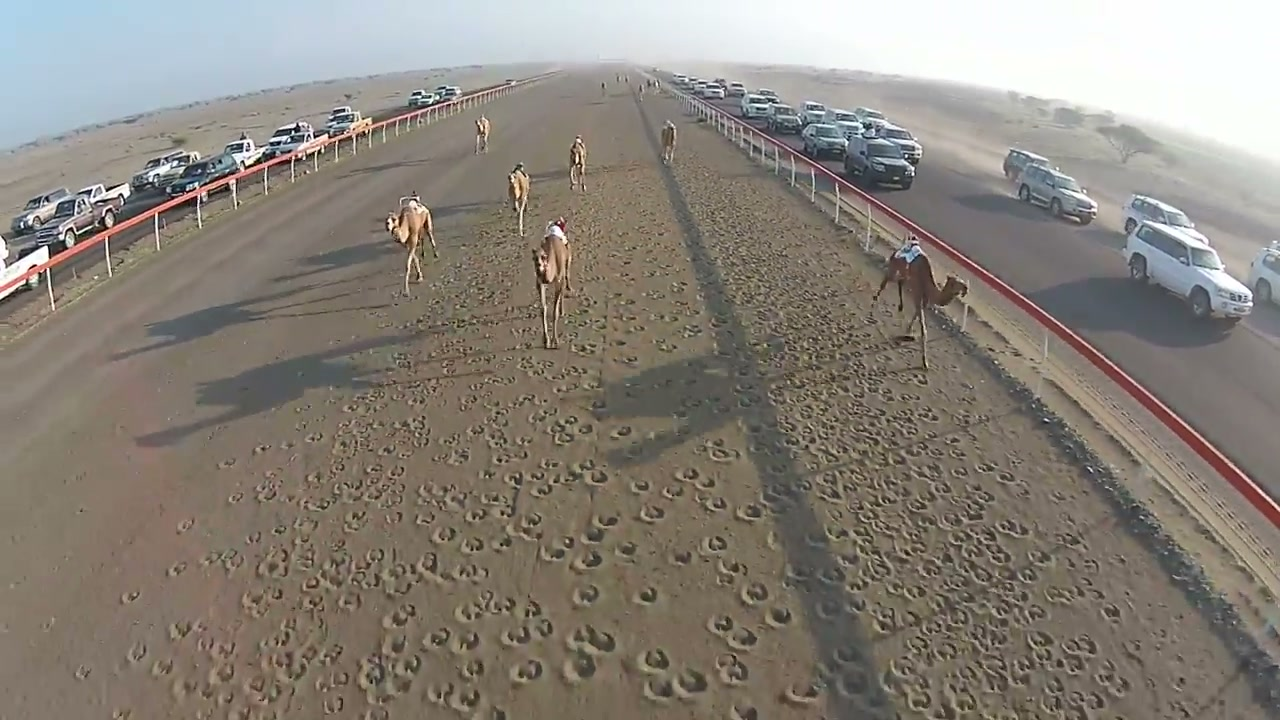animal_foot_print: (33, 106, 1263, 719), (673, 163, 1217, 715)
